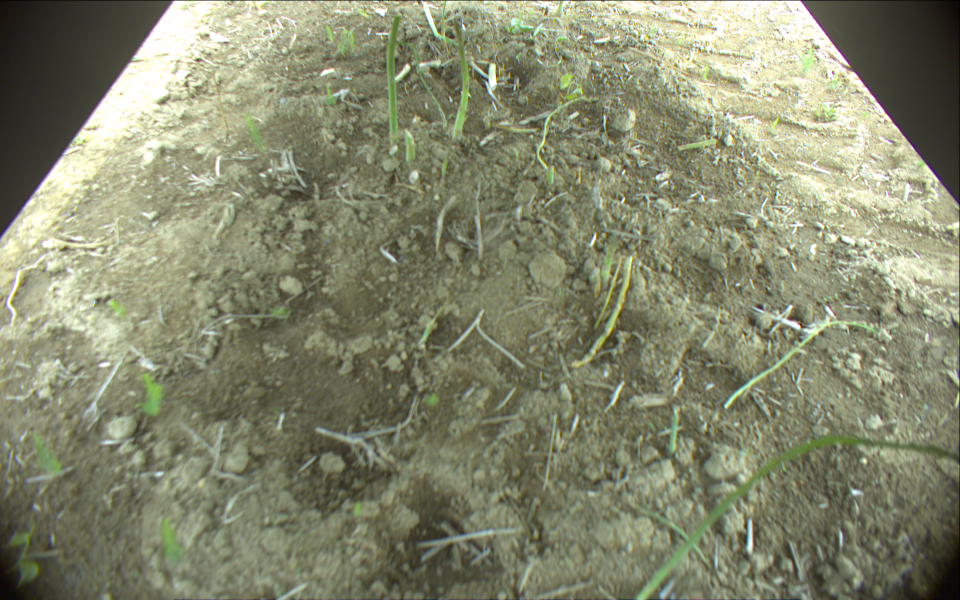aspa: (633, 434, 958, 600), (721, 319, 888, 408), (571, 256, 633, 371), (537, 93, 588, 180), (386, 16, 400, 142), (421, 1, 456, 44), (663, 406, 680, 461), (600, 238, 617, 284), (678, 138, 719, 151), (405, 130, 418, 163), (441, 1, 449, 45), (556, 1, 566, 14)
